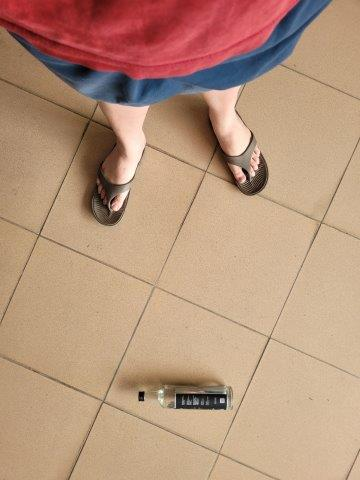botolkaca: (137, 383, 235, 412)
